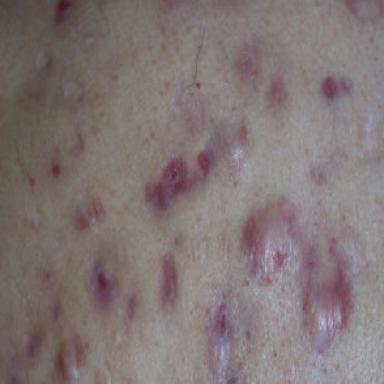acne: (242, 198, 299, 284), (302, 257, 353, 353), (145, 146, 215, 210), (207, 300, 239, 383), (55, 334, 88, 383), (89, 255, 117, 308), (236, 37, 260, 84), (159, 253, 177, 313), (74, 199, 106, 230), (227, 124, 247, 170), (322, 76, 351, 100), (54, 0, 78, 29), (269, 75, 287, 106), (52, 164, 60, 177)
